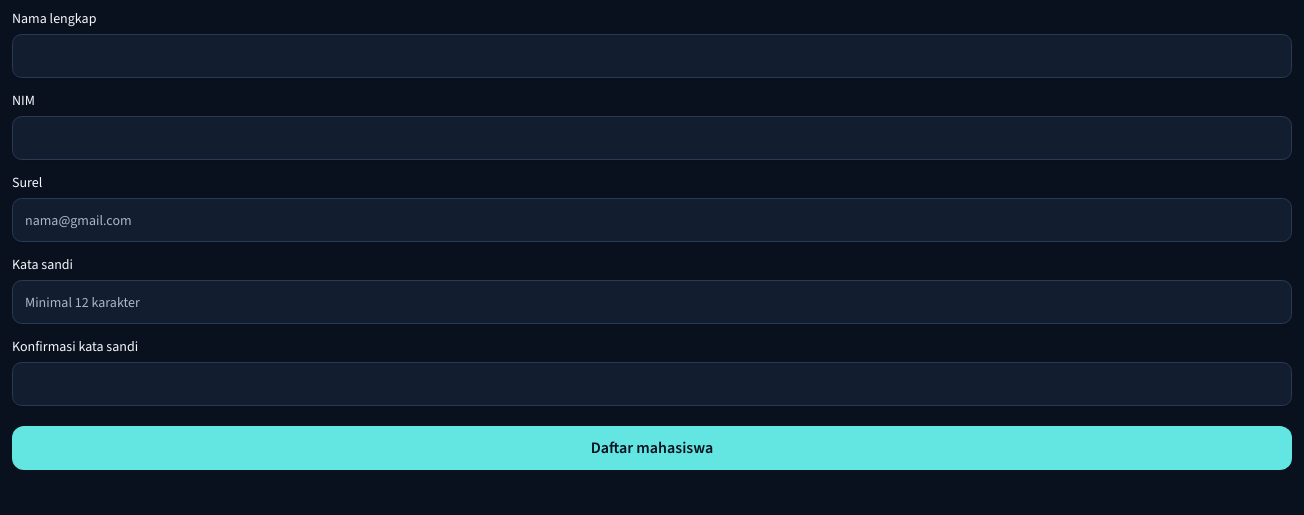
Scenario: formulir pendaftaran mahasiswa › menampilkan galat NIM dari server
The image size is (1304, 515).
Click the button "Daftar mahasiswa".
click(652, 448)  # box 12,426 -> 1292,470
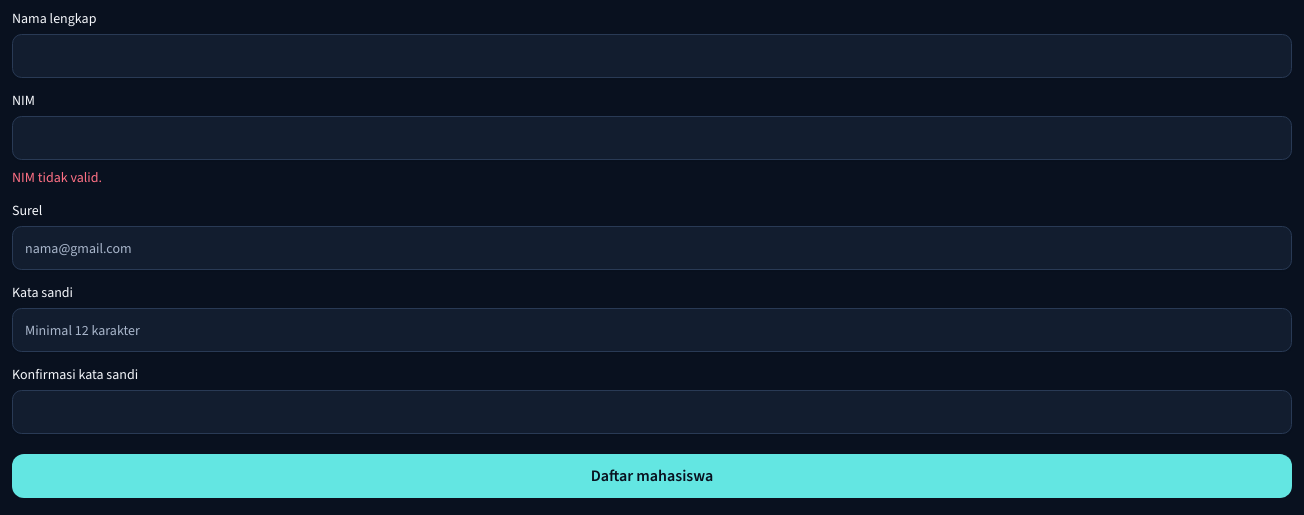
Expected: the message shows "NIM tidak valid", 12,168 -> 102,187
